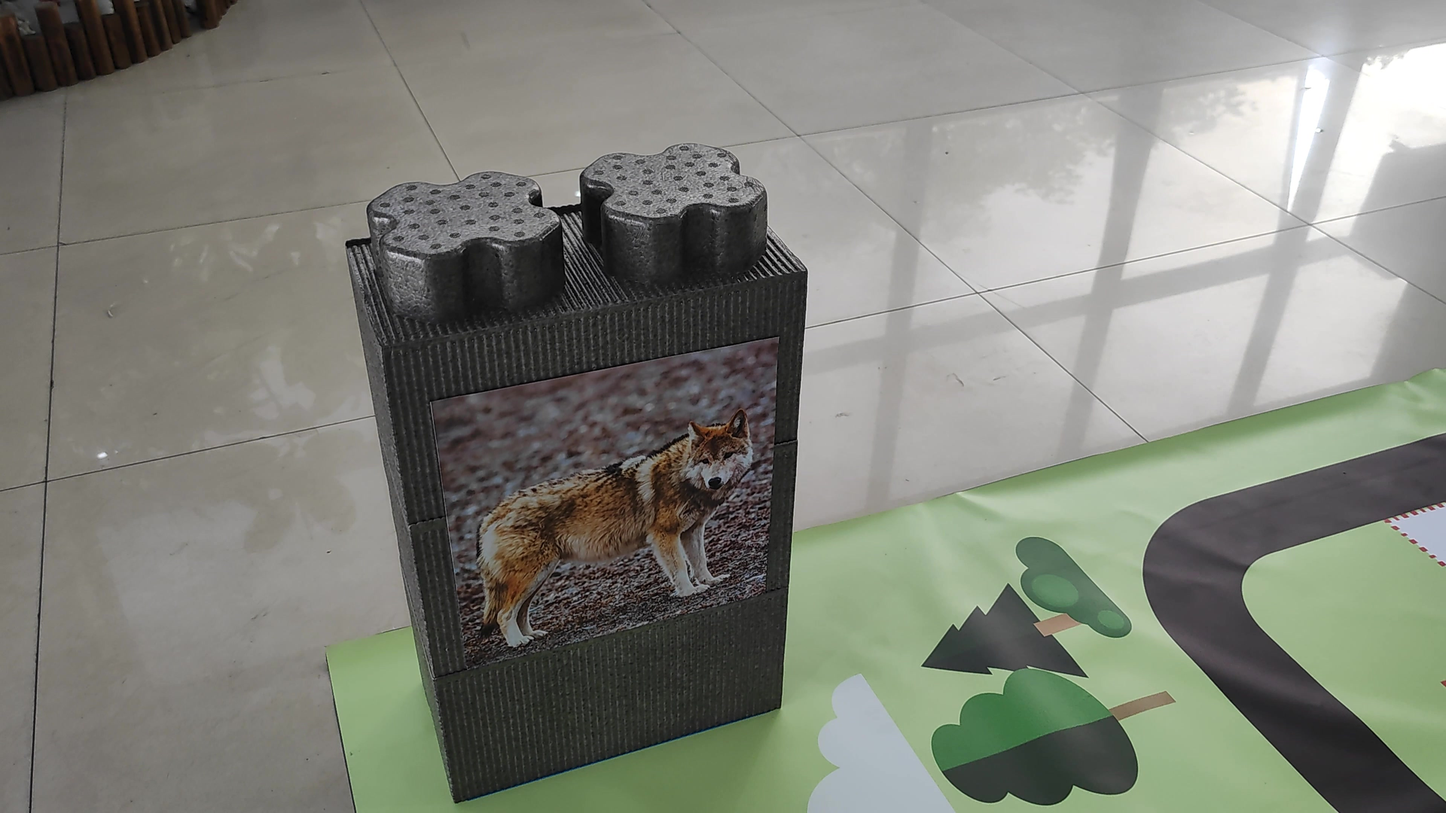wolf: (468, 408, 777, 653)
